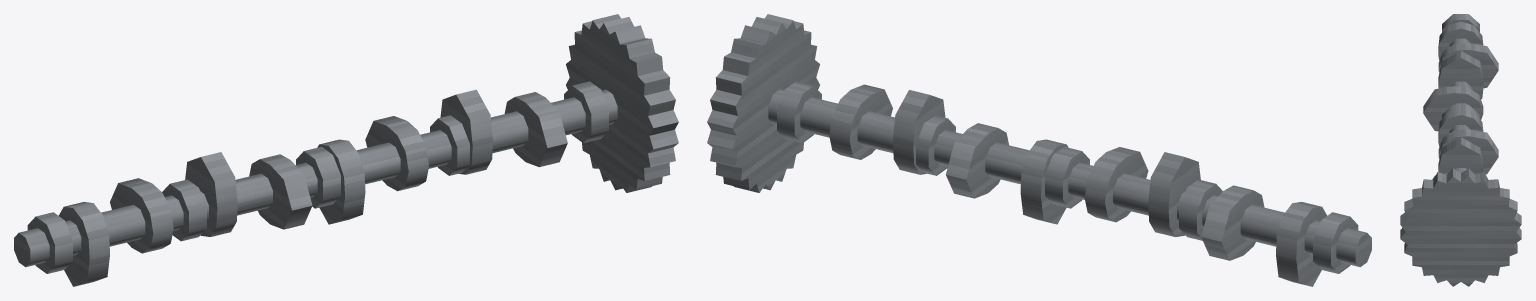
Rendered from comando_n1.glb.
The picture shows the model from 3 angles, left to right: view 1: azimuth 30°, elevation 25°; view 2: azimuth 150°, elevation 25°; view 3: azimuth 270°, elevation 25°; orthographic projection. The views are drawn at different scales.
Parts seen in each view (by area): view 1: comando_n1; view 2: comando_n1; view 3: comando_n1.
Part boxes in pixels (box(x1,y1,x2,y2)): comando_n1: box(14, 14, 678, 286); comando_n1: box(707, 14, 1371, 286); comando_n1: box(1400, 14, 1521, 286).
Bounding box in the file's own units: 0.48 × 0.119 × 0.119.
Materials: 1 (1 with a texture image).
